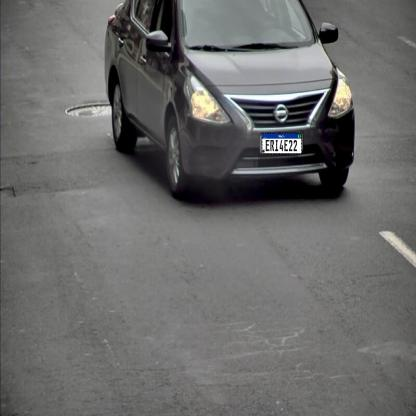PlacaM: (262, 132, 302, 154)
